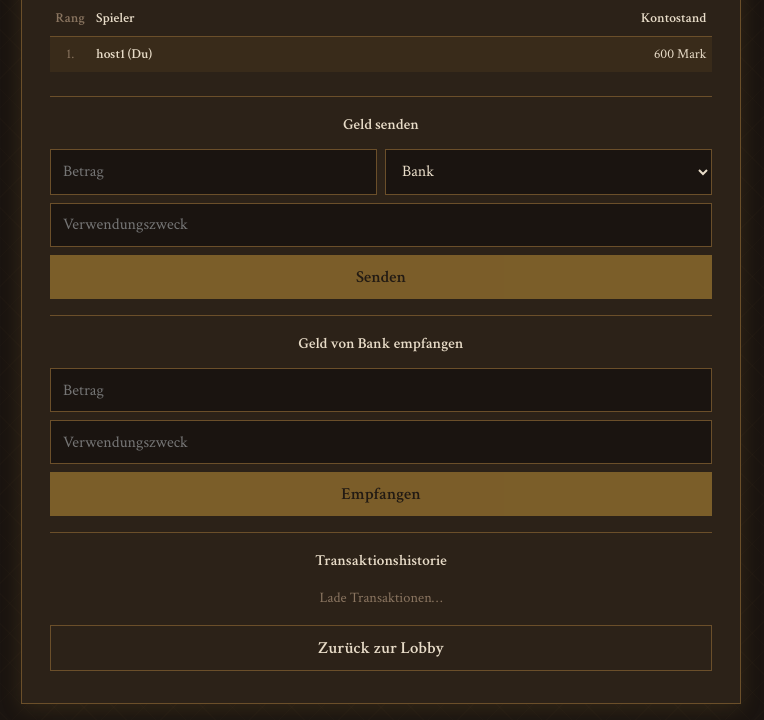
Scenario: DashboardPage › zeigt Erfolgsmeldung nach Empfang von Bank
The width and height of the screenshot is (764, 720).
(page scrolled)
Check: the text "Geld von Bank empfangen" is shown, box [298,334,464,353]
Step 1. Type "100" into the number field with placeholder "Betrag" below "Geld von Bank empfangen" → (381, 390), box [50,368,712,412]
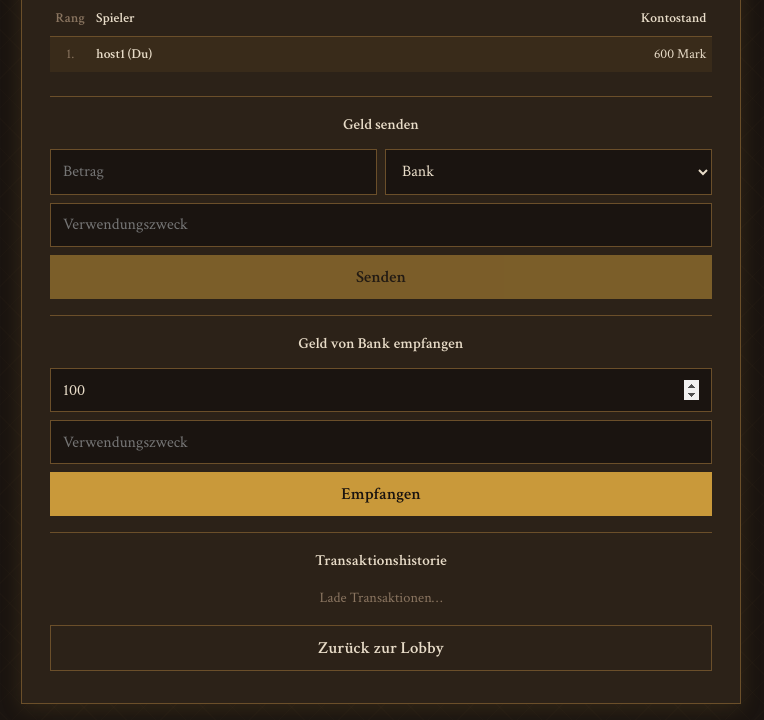
Step 2. Click the button "Empfangen" → click(381, 494), box [50,472,712,516]
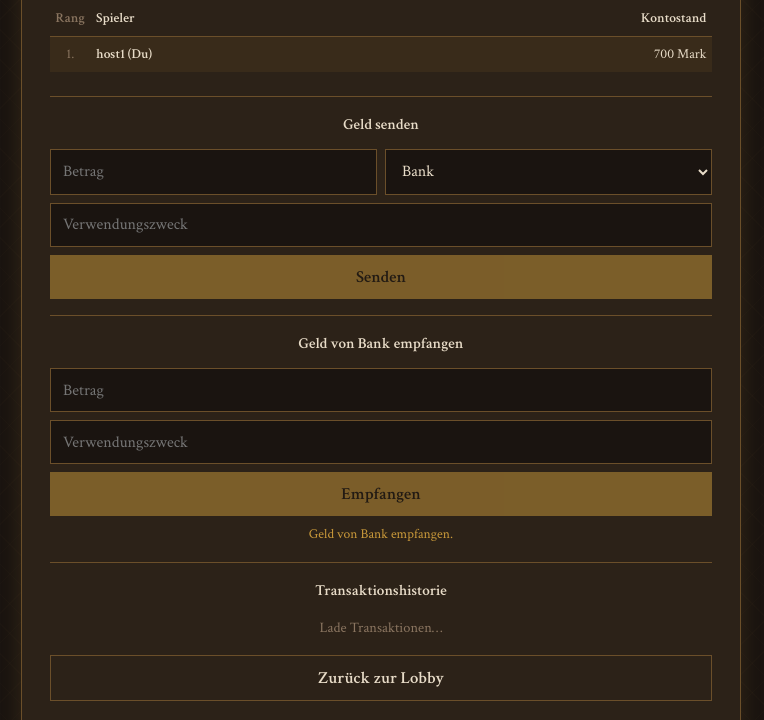
Check: the text "Geld von Bank empfangen." is shown, box [309,526,453,544]
